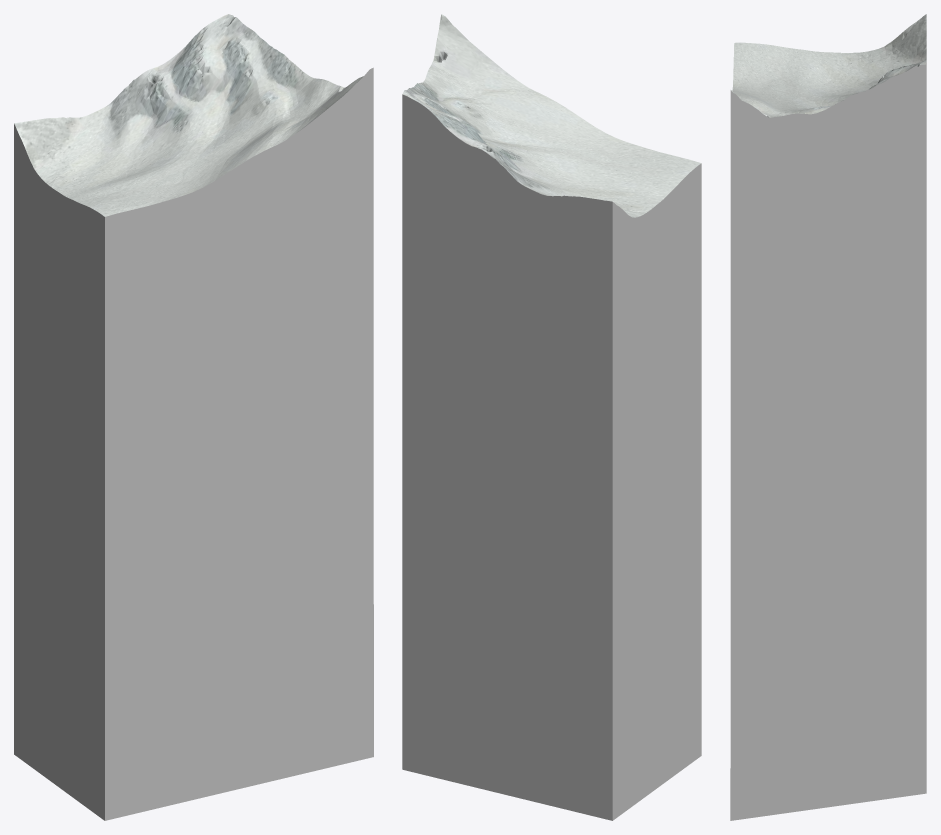
Rendered from GrindScene3.gltf.
3 renders of one model, left to right at view 1: azimuth 30°, elevation 25°; view 2: azimuth 150°, elevation 25°; view 3: azimuth 270°, elevation 25°, orthographic. The views are drawn at different scales.
Visible parts, largest first — view 1: Plane; view 2: Plane; view 3: Plane.
Boxes of the visible parts, <box> form: Plane: <box>14,14,373,820</box>; Plane: <box>402,14,701,820</box>; Plane: <box>730,14,926,820</box>.
Bounding box in the file's own units: 0.5895 × 1.45 × 0.3534.
2 materials, 1 textured.
